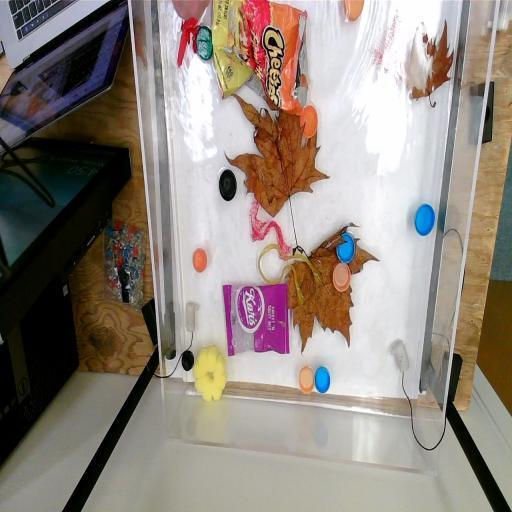Bottle Cap: (412, 199, 438, 244), (297, 98, 318, 140), (329, 261, 354, 296), (334, 227, 357, 265), (194, 22, 213, 63), (218, 166, 238, 204), (190, 244, 210, 279), (296, 364, 316, 398), (312, 364, 332, 398), (340, 0, 370, 22), (177, 348, 195, 372)
Leaf: (289, 222, 374, 354), (233, 102, 326, 220), (406, 20, 456, 112)
Netting: (368, 12, 408, 90), (247, 194, 294, 260)
Plastic Bag: (212, 0, 310, 116), (222, 278, 294, 360)
Plastic Strand: (256, 242, 320, 302), (178, 16, 200, 72)
Sponge: (192, 340, 229, 408)
